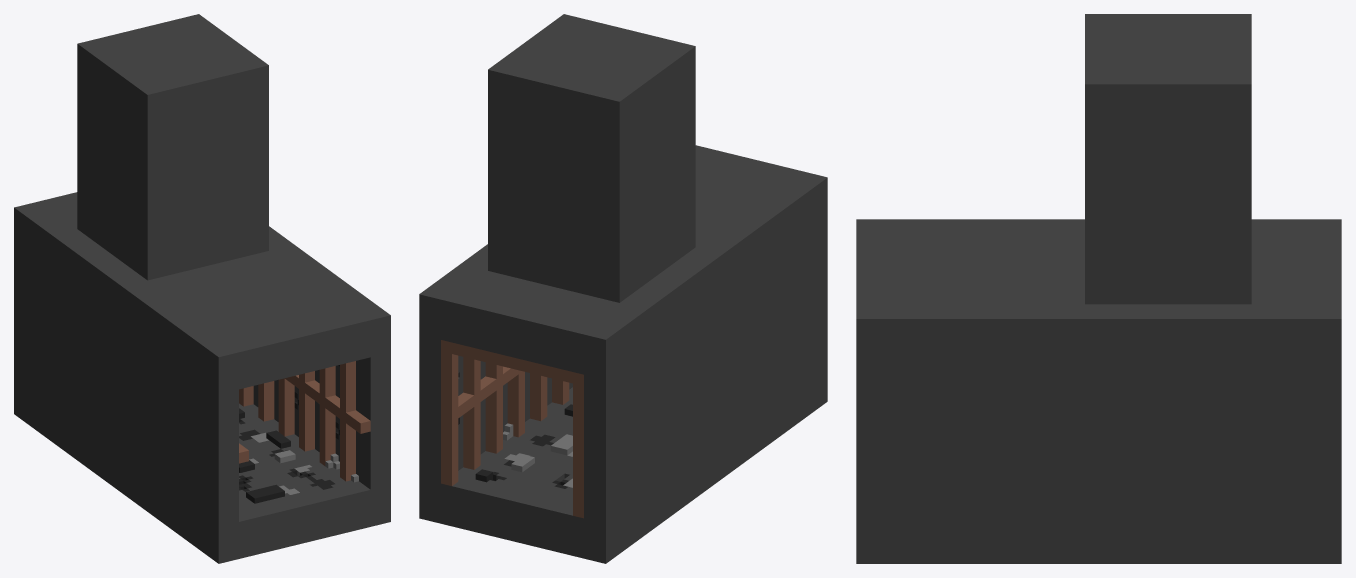
The model's file is Spider-1-Spider Mine.obj.
The picture shows the model from 3 angles, left to right: view 1: azimuth 30°, elevation 25°; view 2: azimuth 150°, elevation 25°; view 3: azimuth 270°, elevation 25°; orthographic projection. The views are drawn at different scales.
Parts seen in each view (by area): view 1: Spider Mine; view 2: Spider Mine; view 3: Spider Mine.
Boxes of the visible parts, <box> form: Spider Mine: <box>14,14,390,563</box>; Spider Mine: <box>419,14,827,563</box>; Spider Mine: <box>856,14,1341,563</box>.
Bounding box in the file's own units: 3.4 × 7.4 × 7.
Materials: 1 (1 with a texture image).
